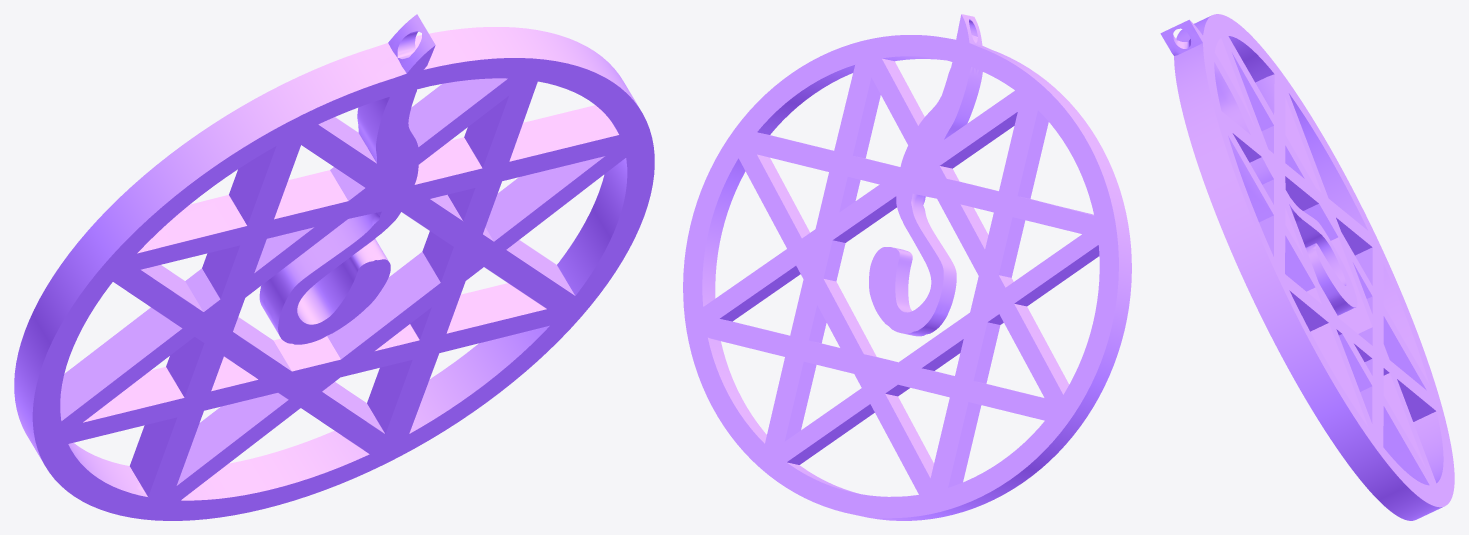
The model's file is sigil.glb.
3 views of the same model, side by side, from view 1: azimuth 30°, elevation 25°; view 2: azimuth 150°, elevation 25°; view 3: azimuth 270°, elevation 25° (orthographic). The views are drawn at different scales.
Parts seen in each view (by area): view 1: logo; view 2: logo; view 3: logo.
Boxes of the visible parts, x1,y1,x2,y2 form: logo: [14, 14, 654, 520]; logo: [683, 14, 1131, 520]; logo: [1160, 14, 1454, 520].
Size of the model in its own units: 9.46 by 9.09 by 5.12.
